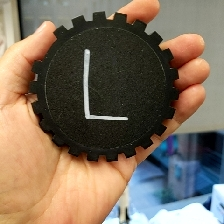gear: (28, 10, 180, 163)
missing: (31, 24, 68, 75)
